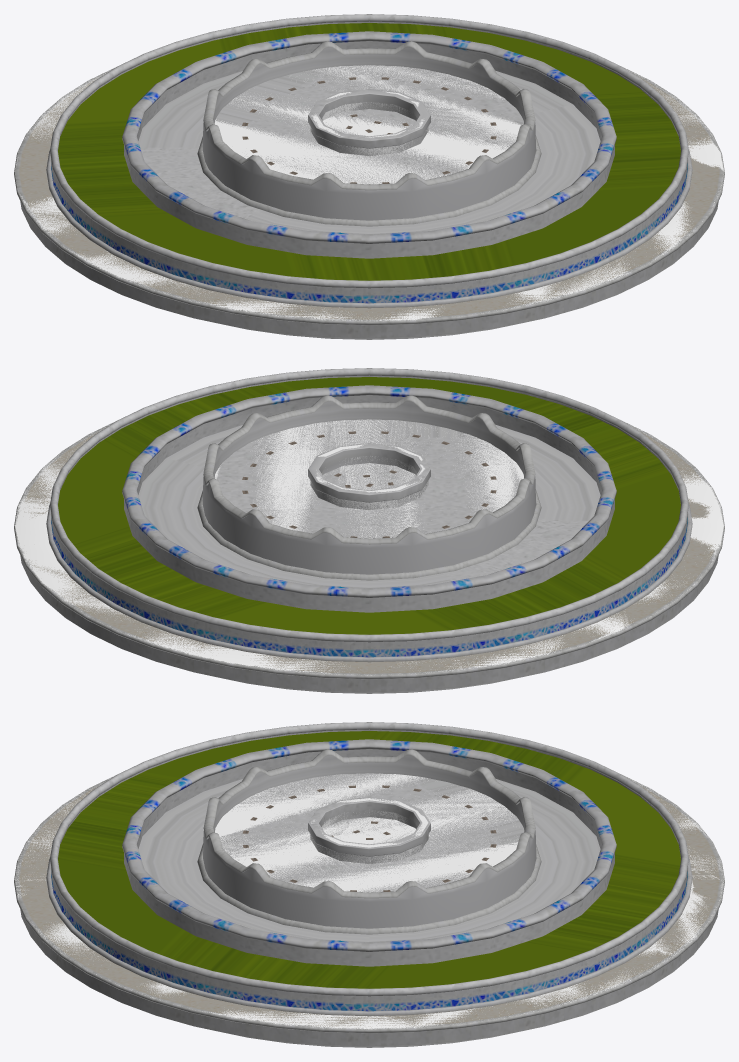
Rendered from objects_un_c01fountain01.gltf.
3 views of the same model, one above another, from view 1: azimuth 30°, elevation 25°; view 2: azimuth 150°, elevation 25°; view 3: azimuth 270°, elevation 25° (orthographic).
Parts seen in each view (by area): view 1: um_objects_un_c01fountain01_model_lod0Shape:objects_un_c01fo (×6); view 2: um_objects_un_c01fountain01_model_lod0Shape:objects_un_c01fo (×6); view 3: um_objects_un_c01fountain01_model_lod0Shape:objects_un_c01fo (×6).
Boxes of the visible parts, bbox=[...] form: um_objects_un_c01fountain01_model_lod0Shape:objects_un_c01fo (×6): bbox=[14, 14, 724, 339]; um_objects_un_c01fountain01_model_lod0Shape:objects_un_c01fo (×6): bbox=[14, 368, 724, 693]; um_objects_un_c01fountain01_model_lod0Shape:objects_un_c01fo (×6): bbox=[14, 722, 724, 1047].
Size of what is drawn, in the model's own units: 12.35 by 1.88 by 12.35.
6 materials, 5 textured.
